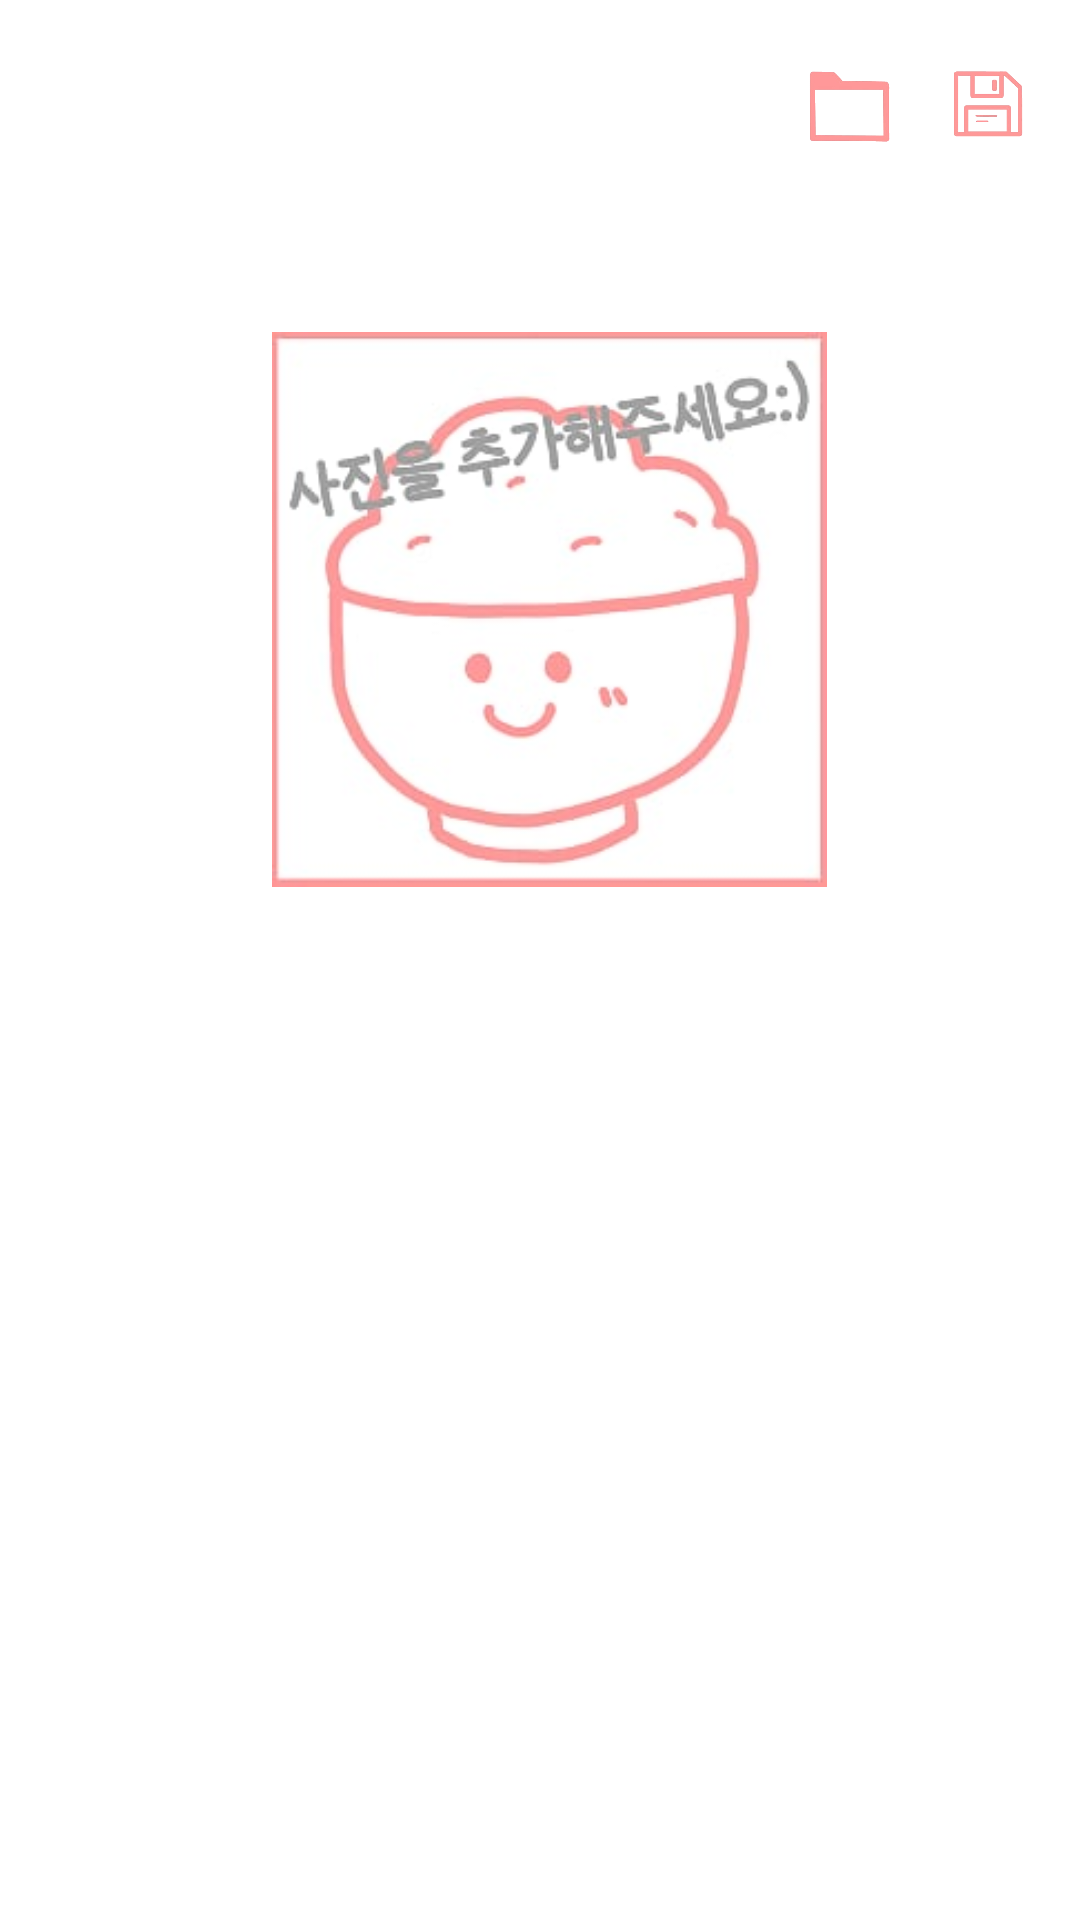

Named icons in this screenshot (1080×1920) and their bounding boxes, bbox=[x1, y1, x2, y2]:
folder: bbox=[810, 71, 890, 142]
save: bbox=[954, 71, 1022, 137]
